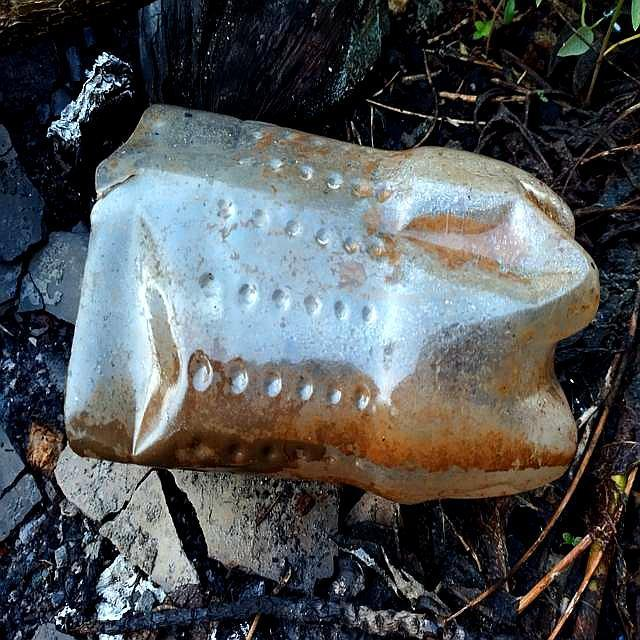Non-biodegradable: (69, 101, 599, 507)
